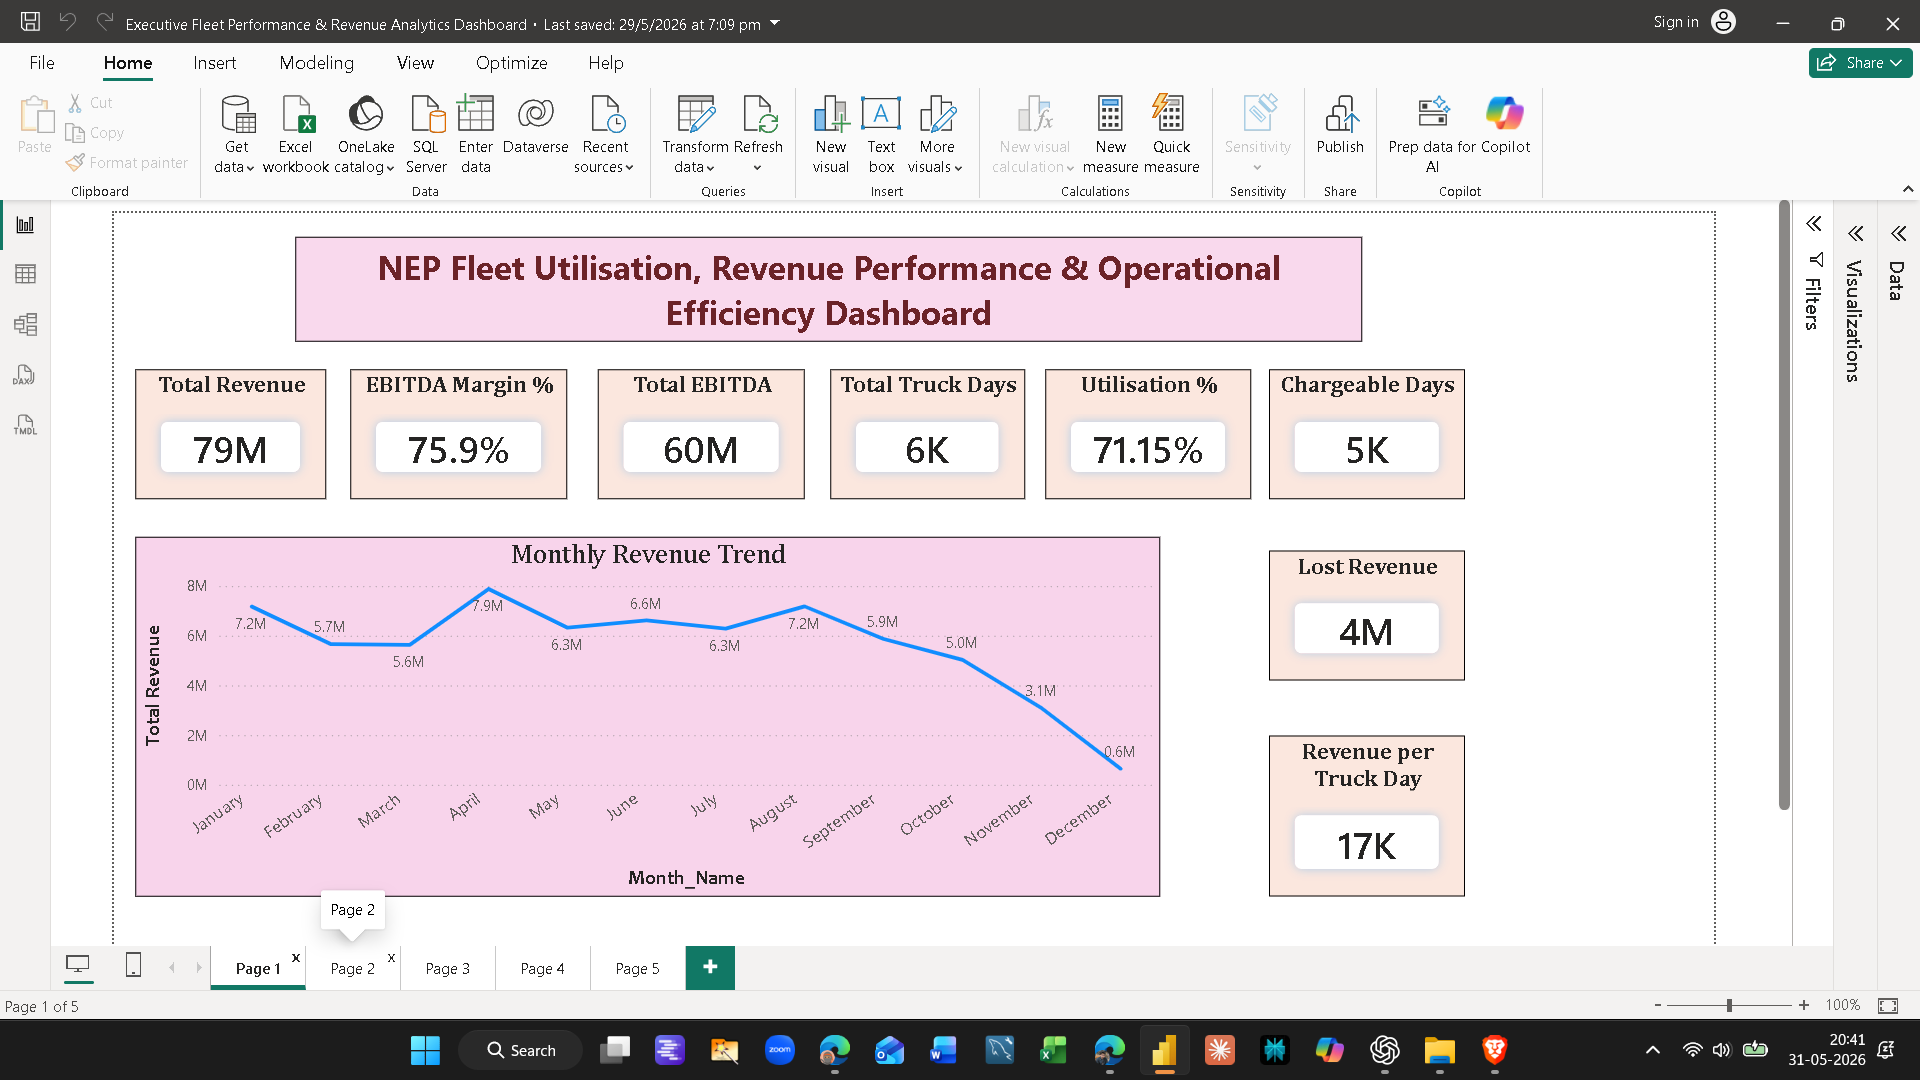

The page's visual inventory and layout, read from the dashboard file:
{"tool":"powerbi","page":{"name":"Page 1","canvas":[1280,720],"ordinal":0},"visuals":[{"type":"cardVisual","title":"EBITDA Margin %","fields":{"Data":["fact_truck_day.EBITDA Margin %"]},"box":[189,125,174,104],"z":0},{"type":"cardVisual","title":"Total EBITDA ","fields":{"Data":["fact_truck_day.Total EBITDA"]},"box":[387.2,125.4,166,104],"z":1000},{"type":"cardVisual","title":"Utilisation %","fields":{"Data":["fact_truck_day.Utilisation %"]},"box":[745,125,165,104],"z":2000},{"type":"cardVisual","title":"Chargeable Days","fields":{"Data":["fact_truck_day.Chargeable Days"]},"box":[924,125,157,104],"z":3000},{"type":"cardVisual","title":"Total Truck Days","fields":{"Data":["fact_truck_day.Total Truck Days"]},"box":[573,125,156,104],"z":4000},{"type":"cardVisual","title":"Total Revenue","fields":{"Data":["fact_truck_day.Total Revenue"]},"box":[17,125,153,104],"z":5000},{"type":"lineChart","title":"Monthly Revenue Trend","fields":{"Y":["fact_truck_day.Total Revenue"],"Category":["dim_calendar.Month_Name"]},"box":[16.8,259,820,288],"z":6000},{"type":"cardVisual","title":"Lost Revenue","fields":{"Data":["fact_truck_day.Lost Revenue"]},"box":[924,270,157,104],"z":7000},{"type":"cardVisual","title":"Revenue per Truck Day","fields":{"Data":["fact_truck_day.Revenue per Truck Day"]},"box":[924,418,157,129],"z":8000},{"type":"textbox","box":[145,19,854,84],"z":8001}]}

Visuals, with their boxes on the page's 1280x720 design canvas (x1, y1, x2, y2). These are canvas units, not pixel positions in the 1920x1080 screenshot, which may show the page scaled, cropped or inside an application window:
"EBITDA Margin %" cardVisual: 189/125/363/229
"Total EBITDA " cardVisual: 387/125/553/229
"Utilisation %" cardVisual: 745/125/910/229
"Chargeable Days" cardVisual: 924/125/1081/229
"Total Truck Days" cardVisual: 573/125/729/229
"Total Revenue" cardVisual: 17/125/170/229
"Monthly Revenue Trend" lineChart: 17/259/837/547
"Lost Revenue" cardVisual: 924/270/1081/374
"Revenue per Truck Day" cardVisual: 924/418/1081/547
textbox: 145/19/999/103
